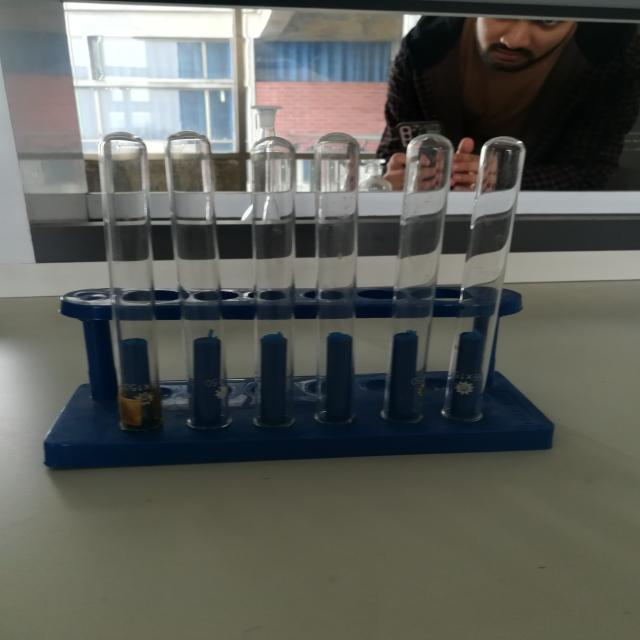Test_Tube: (78, 94, 543, 476)
